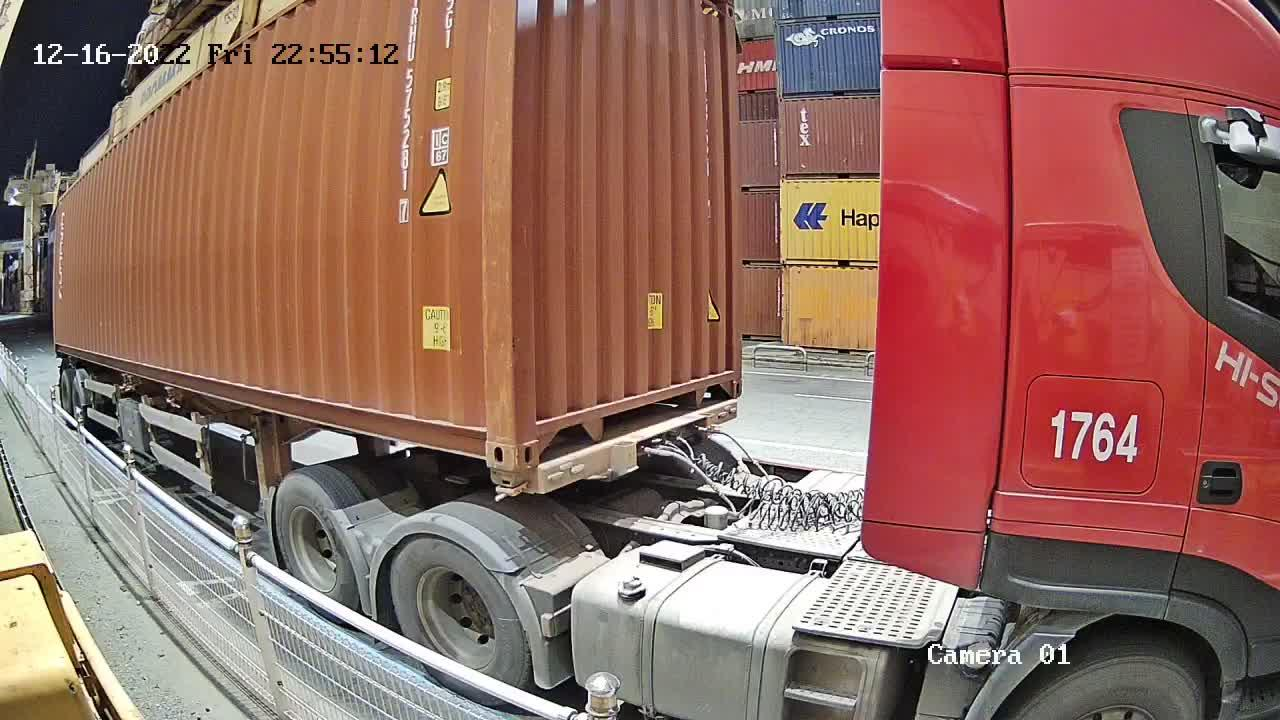Chassis: (531, 399, 740, 494)
Cone: (494, 471, 531, 500)
Hole_L: (513, 370, 579, 471)
Hole_R: (452, 380, 515, 470), (696, 341, 746, 408)
Tire: (391, 537, 530, 689), (276, 477, 350, 602)
